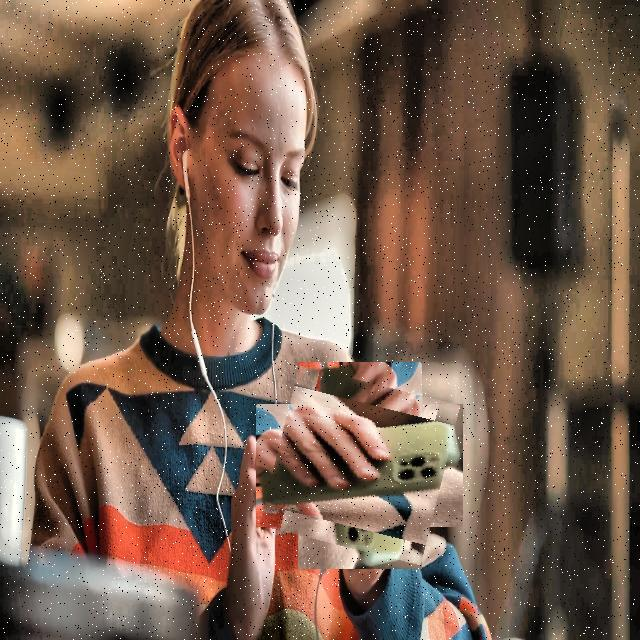Phone: (268, 374, 452, 557)
